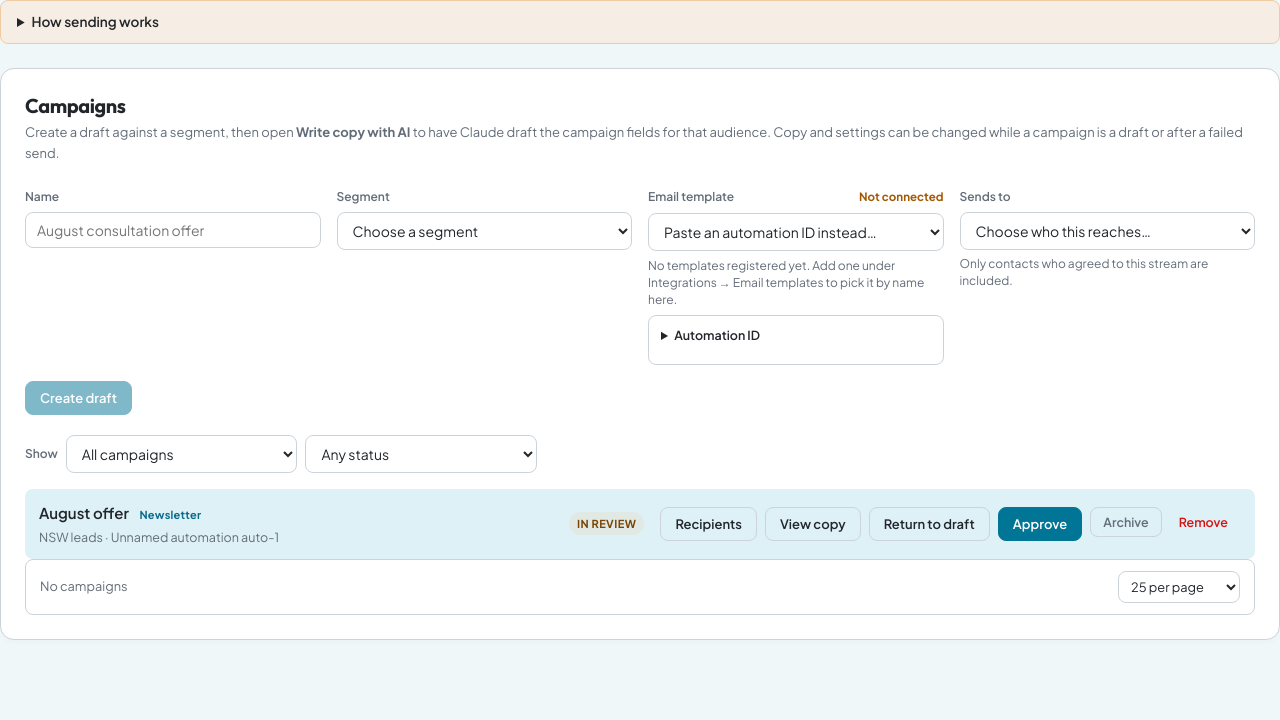
Test case: MarketingView › the recipient list › opens a dialog naming who the campaign goes to
The width and height of the screenshot is (1280, 720).
What coordinates should you click on to do the following:
click the button with test id "audience-camp-1"
I would click on:
 (709, 524)
Its box is [660, 507, 757, 541].
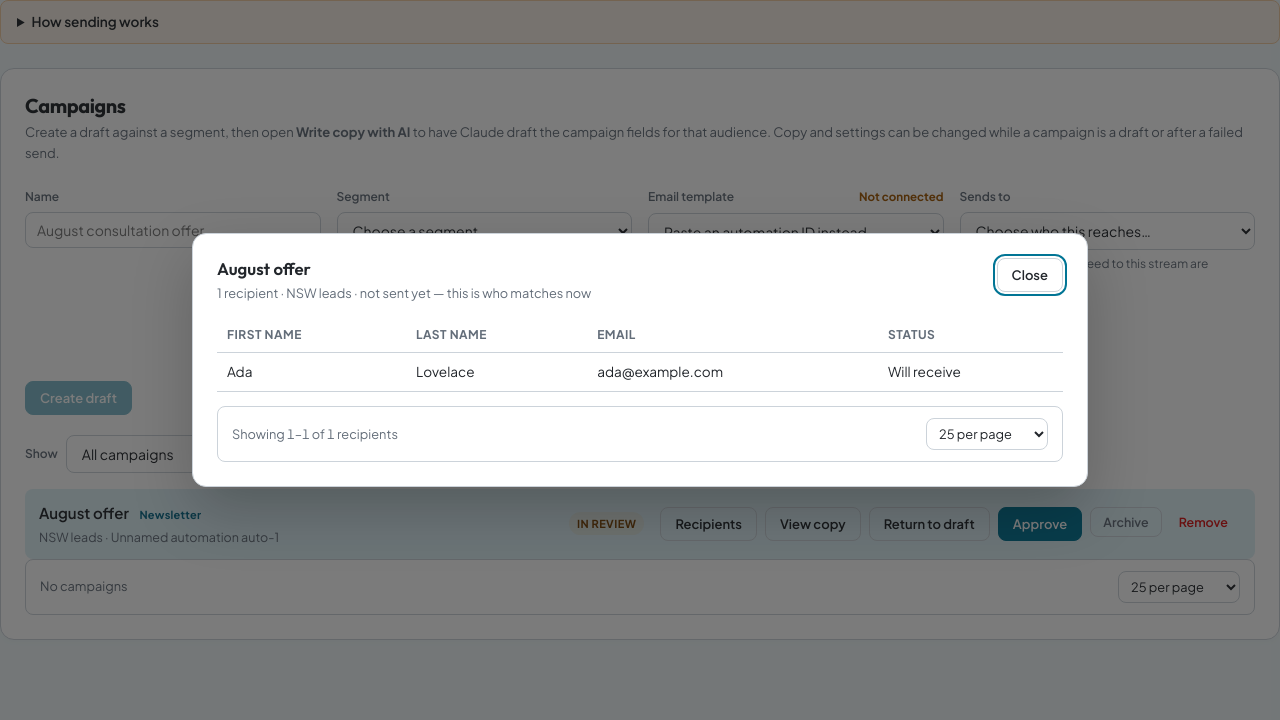
Now the text "ada@example.com" is shown, box [587, 353, 878, 392]
